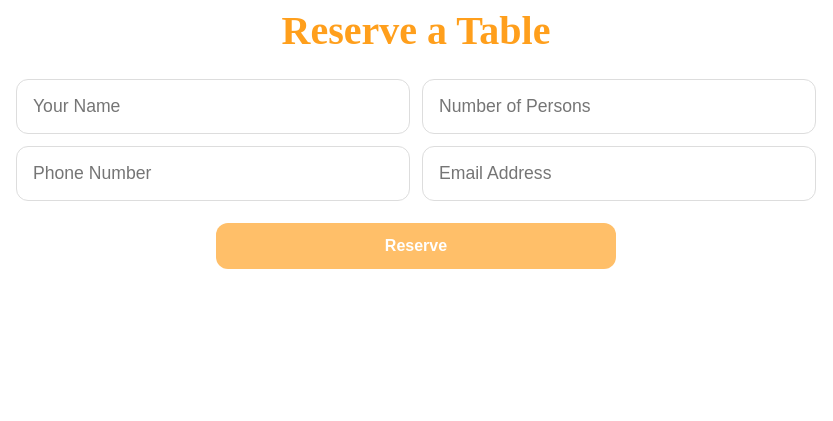
Test: ReservationCard Component › shows validation errors for all fields when form is submitted empty
Click the button "Reserve": (416, 246) [216,223,616,269]
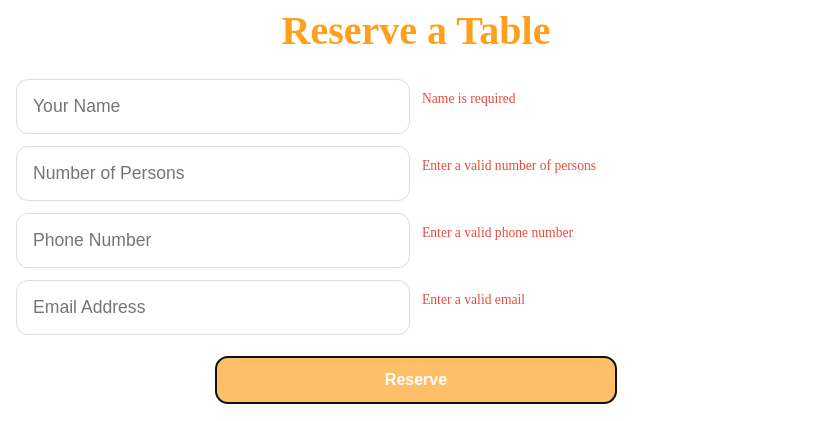
Expected: the text "Name is required" is shown, [422,91,516,106]
Expected: the text "Enter a valid number of persons" is shown, [422,158,596,173]
Expected: the text "Enter a valid phone number" is shown, [422,225,573,240]
